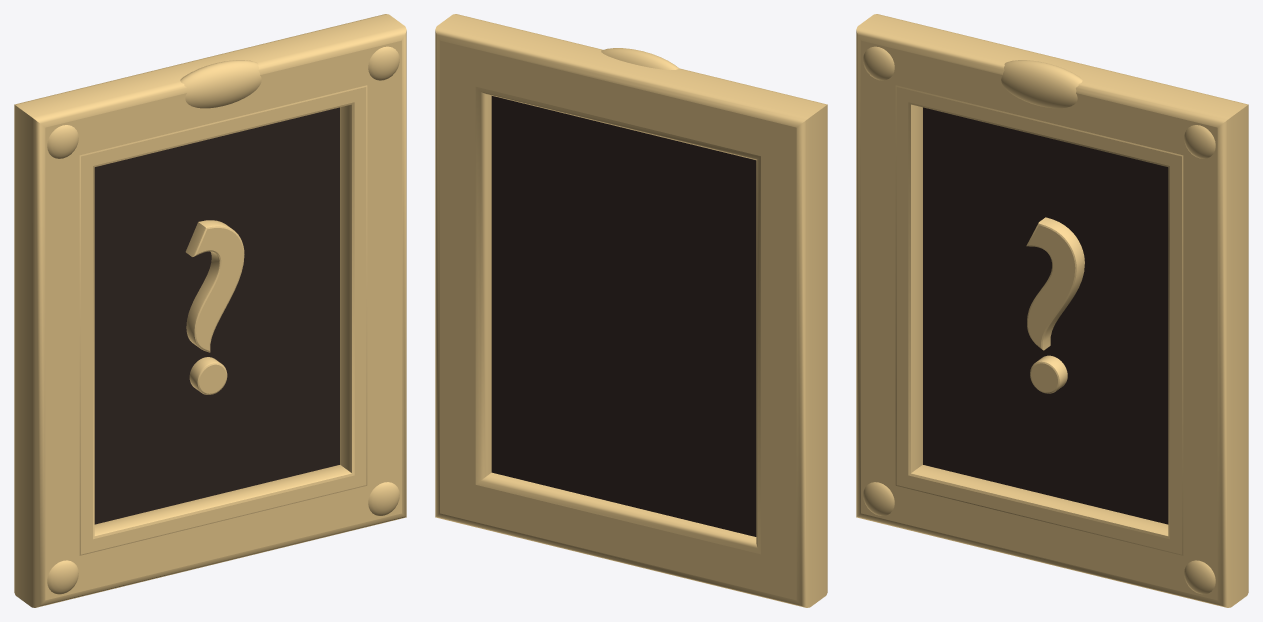
Rendered from frame.glb.
3 renders of one model, left to right at view 1: azimuth 30°, elevation 25°; view 2: azimuth 150°, elevation 25°; view 3: azimuth 330°, elevation 25°, orthographic.
Parts seen in each view (by area): view 1: canvas, outer, inner, q, cart, ros, ros.003, ros.001, ros.002; view 2: canvas, outer, cart; view 3: canvas, outer, inner, q, cart, ros.002, ros.001, ros, ros.003.
Part boxes in pixels (x1,y1,x2,y2): canvas: (94, 107, 339, 524); outer: (14, 14, 406, 607); inner: (79, 85, 367, 555); q: (185, 220, 244, 394); cart: (180, 60, 261, 108); ros: (47, 560, 78, 594); ros.003: (368, 46, 399, 80); ros.001: (47, 125, 78, 158); ros.002: (368, 482, 399, 515); canvas: (491, 96, 756, 536); outer: (435, 14, 827, 607); cart: (601, 48, 679, 70); canvas: (923, 107, 1168, 524); outer: (856, 14, 1248, 607); inner: (895, 85, 1183, 555); q: (1026, 217, 1084, 393); cart: (1001, 60, 1082, 108); ros.002: (1184, 560, 1215, 594); ros.001: (863, 46, 894, 80); ros: (863, 482, 894, 515); ros.003: (1184, 125, 1215, 158).
Size of the model in its own units: 1.57 by 2 by 0.211.
